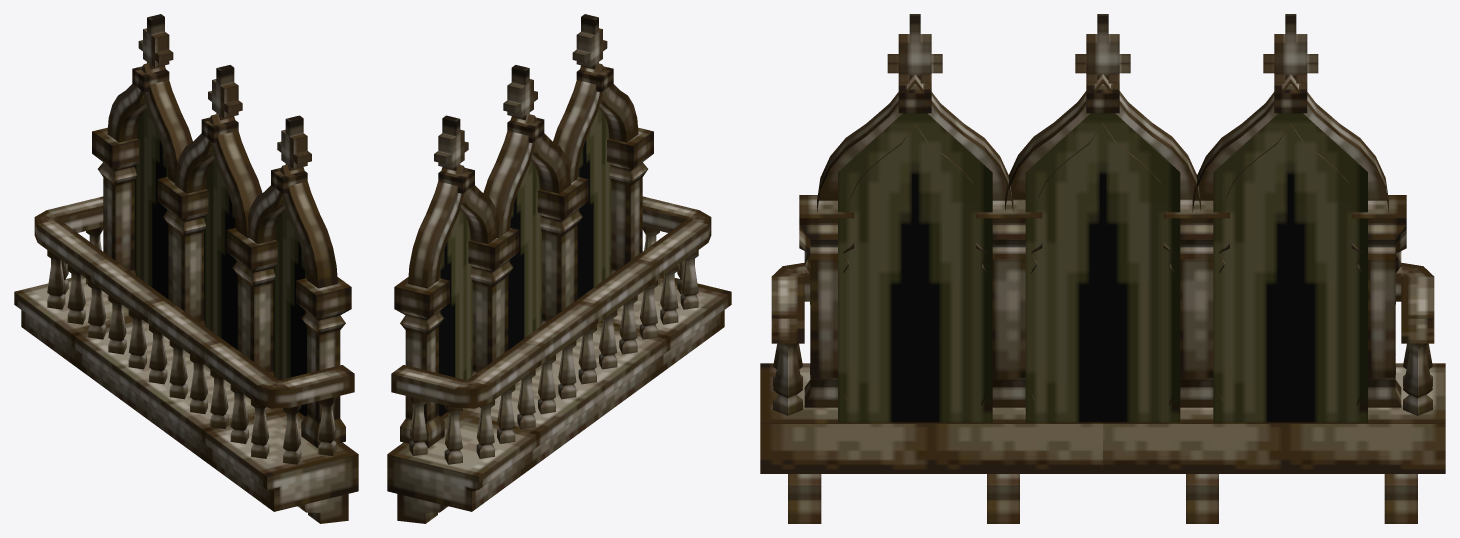
File: EnvBdgMD_Sea_A_Outdoor_Terrace_A.FBX
3 views of the same model, side by side, from view 1: azimuth 30°, elevation 25°; view 2: azimuth 150°, elevation 25°; view 3: azimuth 270°, elevation 25° (orthographic). The views are drawn at different scales.
Visible parts, largest first — view 1: EnvBdgMD_Sea_A_Outdoor_Terrace_A; view 2: EnvBdgMD_Sea_A_Outdoor_Terrace_A; view 3: EnvBdgMD_Sea_A_Outdoor_Terrace_A.
Part boxes in pixels (<box>): EnvBdgMD_Sea_A_Outdoor_Terrace_A: <box>14,14,358,523</box>; EnvBdgMD_Sea_A_Outdoor_Terrace_A: <box>387,14,731,523</box>; EnvBdgMD_Sea_A_Outdoor_Terrace_A: <box>760,14,1445,523</box>.
Size of the model in its own units: 70 by 250 by 310.
1 material, 1 textured.
